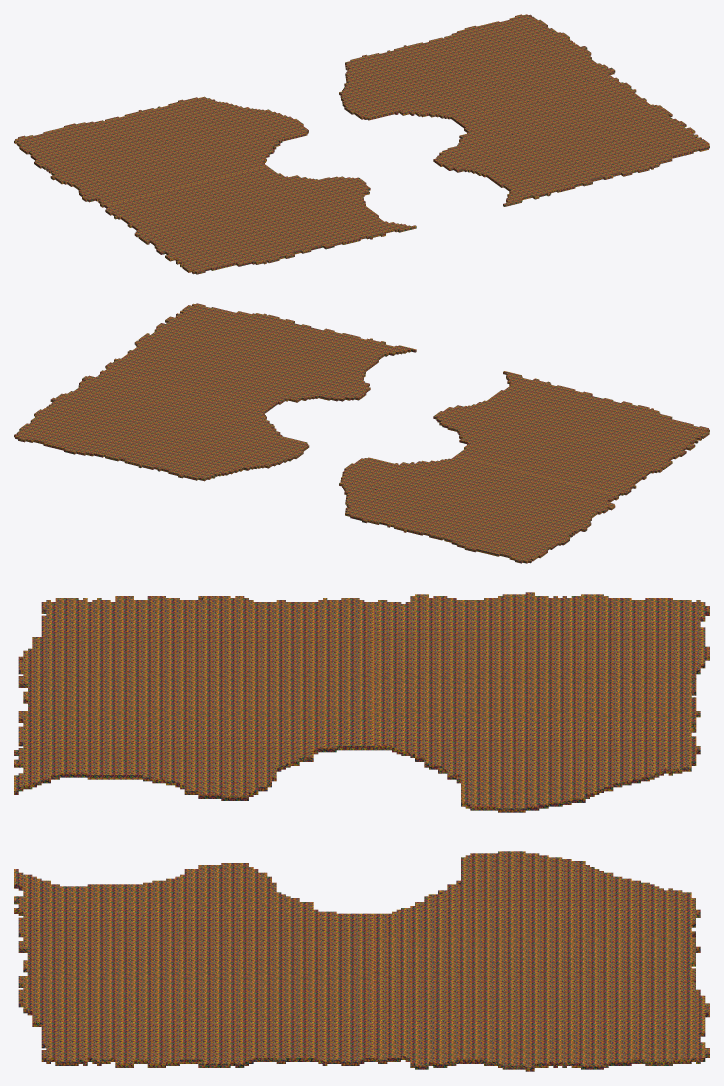
The model's file is LRground_jelly.FBX.
3 views of the same model, one above another, from view 1: azimuth 30°, elevation 25°; view 2: azimuth 150°, elevation 25°; view 3: azimuth 270°, elevation 25° (orthographic). The views are drawn at different scales.
Parts seen in each view (by area): view 1: LRGround; view 2: LRGround; view 3: LRGround.
Boxes of the visible parts, box(x1,y1,x2,y2) form: LRGround: box(14, 14, 709, 274); LRGround: box(14, 303, 709, 563); LRGround: box(14, 592, 709, 1071).
Bounding box in the file's own units: 244 × 1 × 151.
